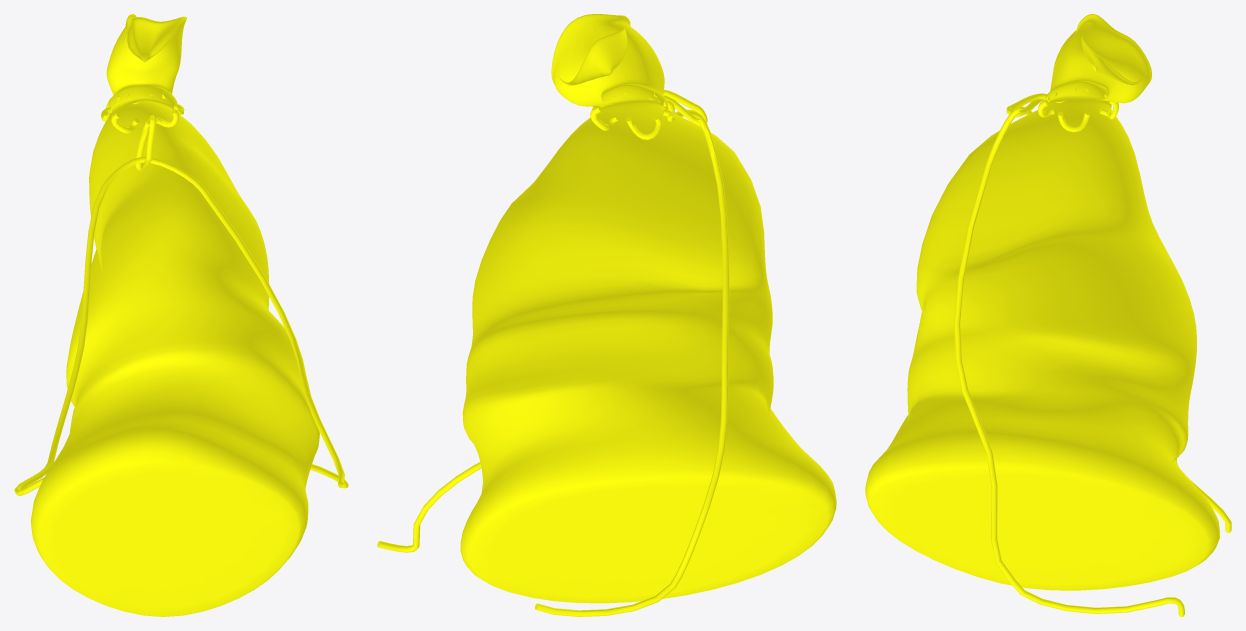
File: SM_Acc2Group_bag3.glb
3 views of the same model, side by side, from view 1: azimuth 30°, elevation 25°; view 2: azimuth 150°, elevation 25°; view 3: azimuth 270°, elevation 25° (orthographic). The views are drawn at different scales.
Visible parts, largest first — view 1: SM_Acc2Group_bag3; view 2: SM_Acc2Group_bag3; view 3: SM_Acc2Group_bag3.
Part boxes in pixels (x1,y1,x2,y2): SM_Acc2Group_bag3: (14,14,348,616); SM_Acc2Group_bag3: (377,14,836,616); SM_Acc2Group_bag3: (865,14,1231,616).
Size of the model in its own units: 0.4024 by 0.6232 by 0.4055.
Materials: 3 (3 with a texture image).
